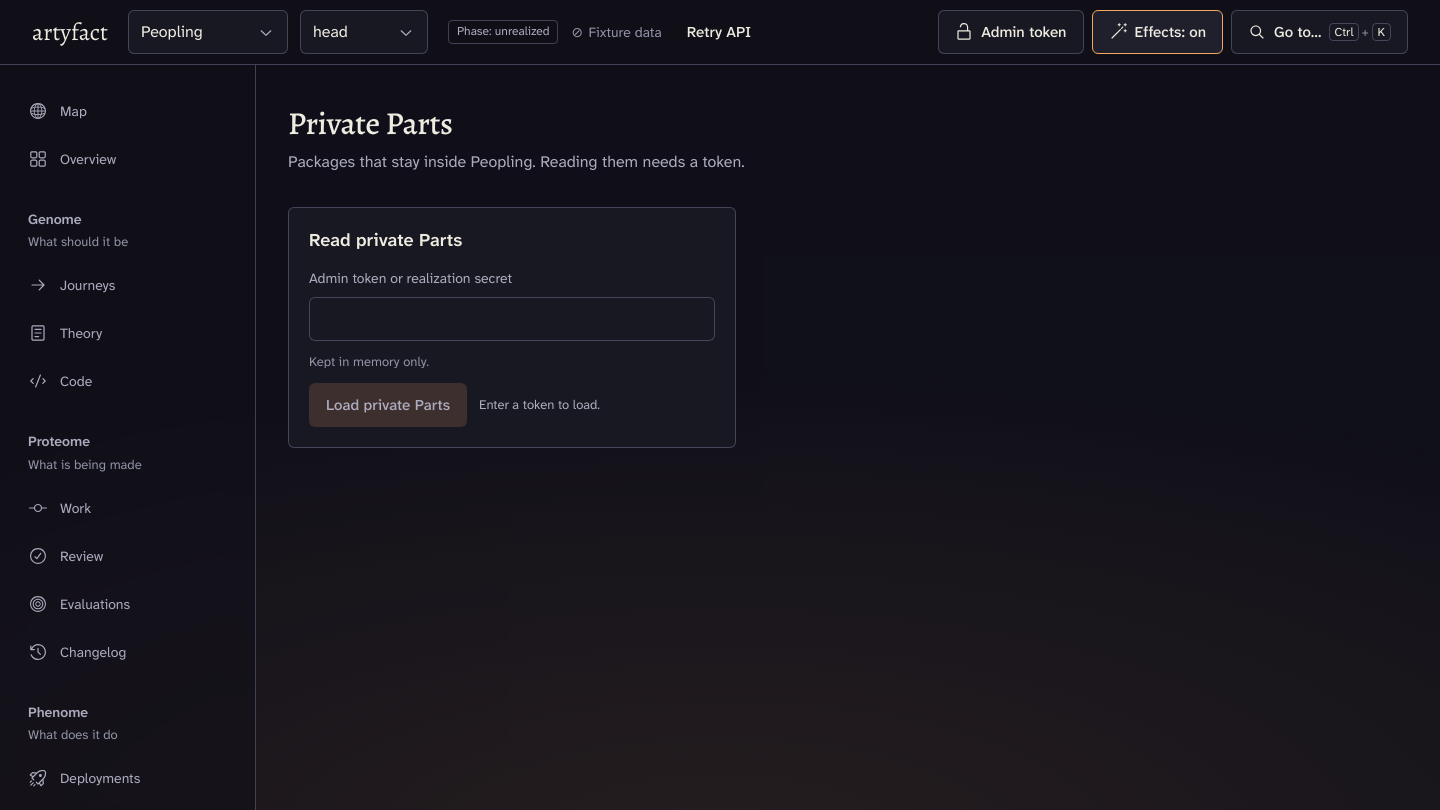
Test: System-private Parts › shows an empty authorized catalog
Type "admin-secret" into the password field labelled "Admin token or realization secret" at (512, 319), box [309,297,715,341]
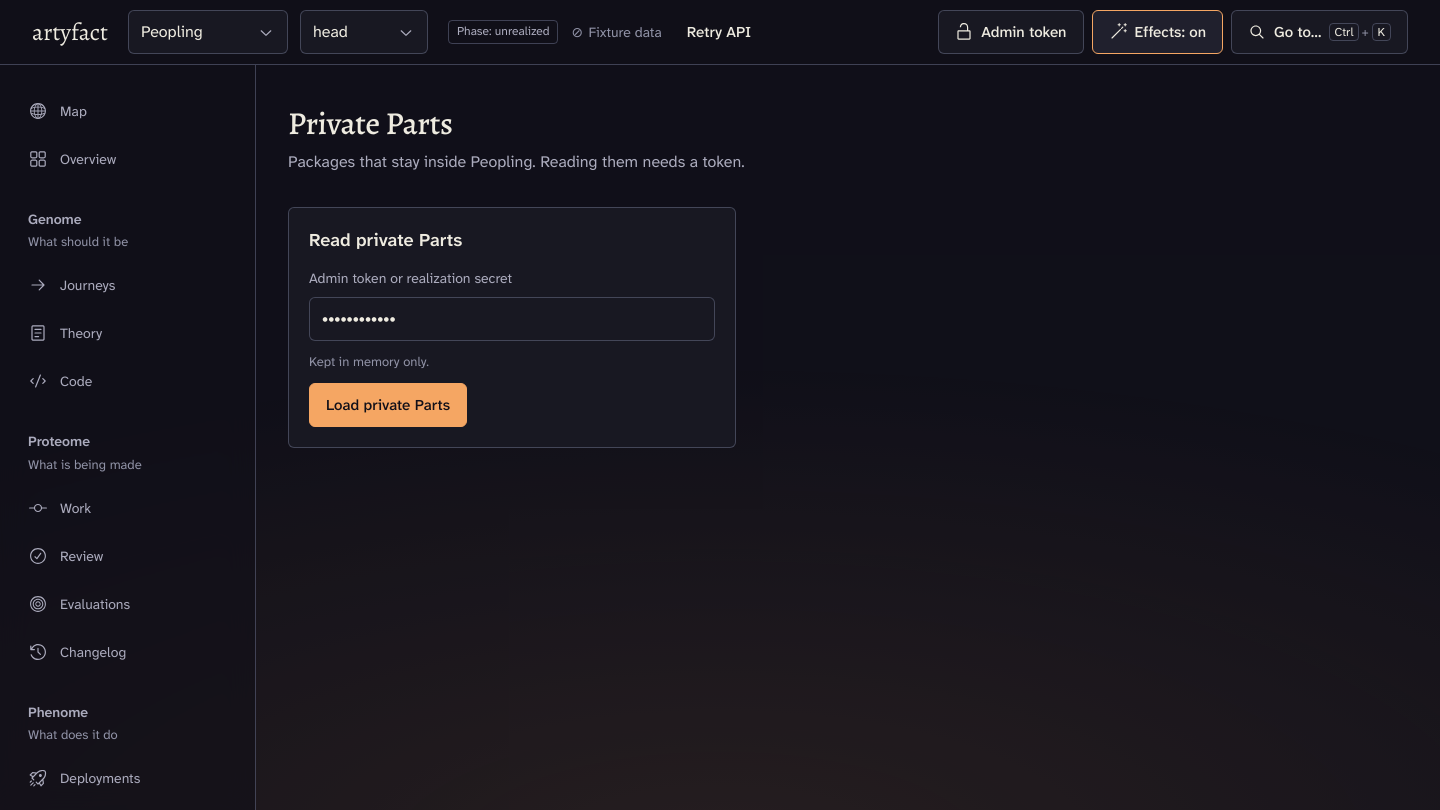
Click the button "Load private Parts" at (388, 405), box [309,383,467,427]
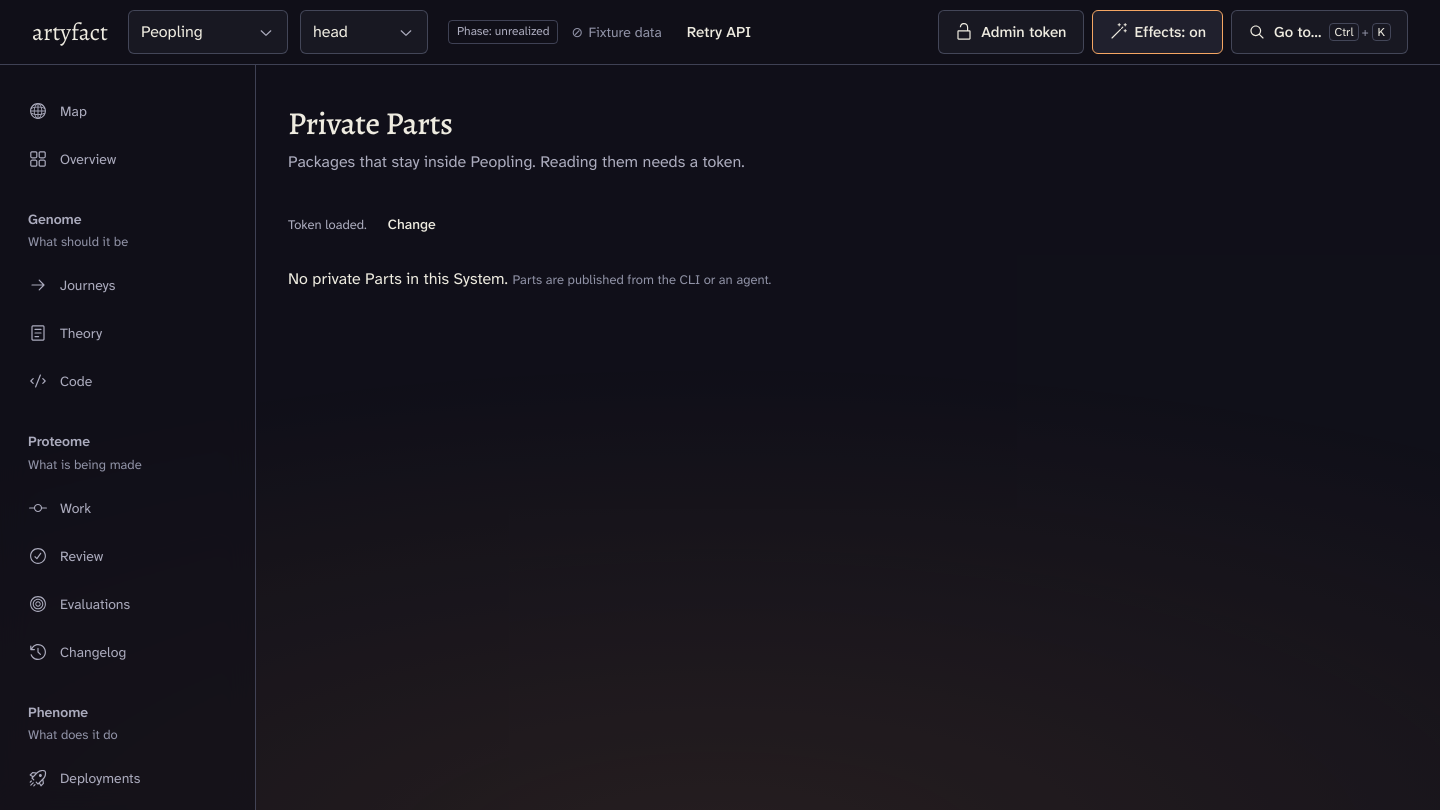
Expected: the text "No private Parts in this System." is shown, [288,268,512,289]
